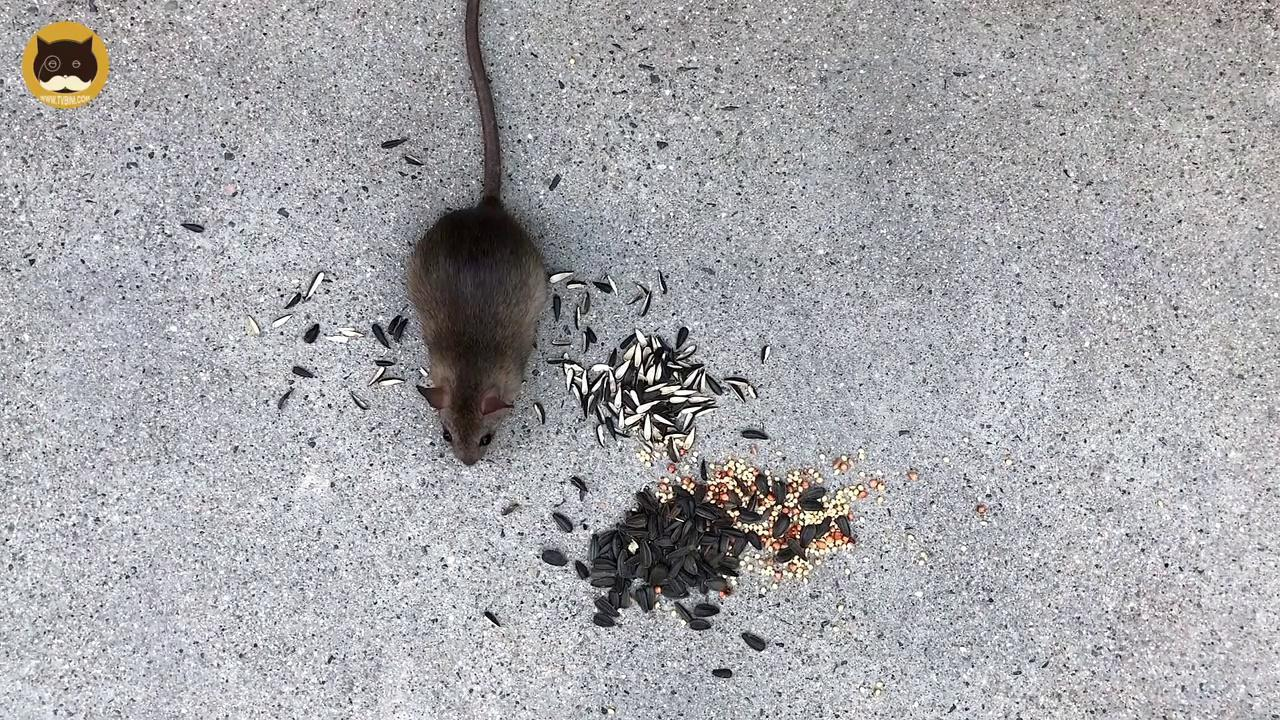rat: (406, 0, 548, 465)
